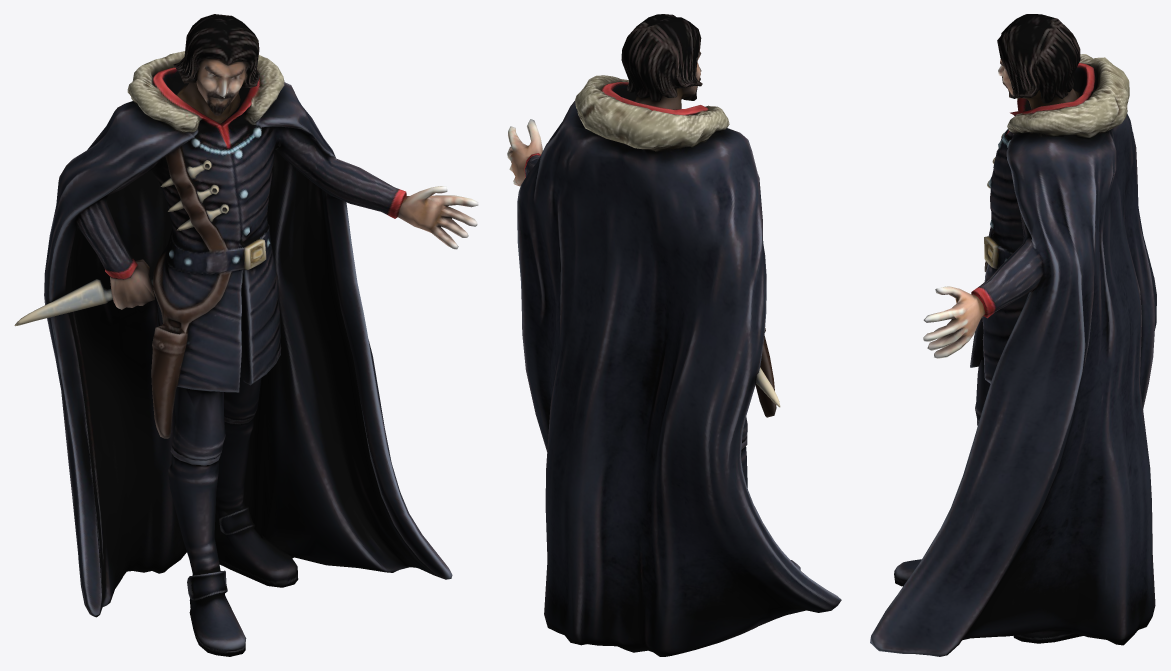
File: MZ4250 - Amrik Vanthapur.glb
3 views of the same model, side by side, from view 1: azimuth 30°, elevation 25°; view 2: azimuth 150°, elevation 25°; view 3: azimuth 270°, elevation 25° (orthographic). The views are drawn at different scales.
Visible parts, largest first — view 1: body_low.001, dagger_low.001, kunai_low.001; view 2: body_low.001; view 3: body_low.001.
Part boxes in pixels (x1=…): body_low.001: x1=44, y1=14, x2=478, y2=656; dagger_low.001: x1=14, y1=279, x2=153, y2=326; kunai_low.001: x1=160, y1=160, x2=228, y2=230; body_low.001: x1=507, y1=14, x2=841, y2=656; body_low.001: x1=870, y1=14, x2=1156, y2=656.
Size of the model in its own units: 3.89 by 5.94 by 2.6.
Materials: 1 (1 with a texture image).
